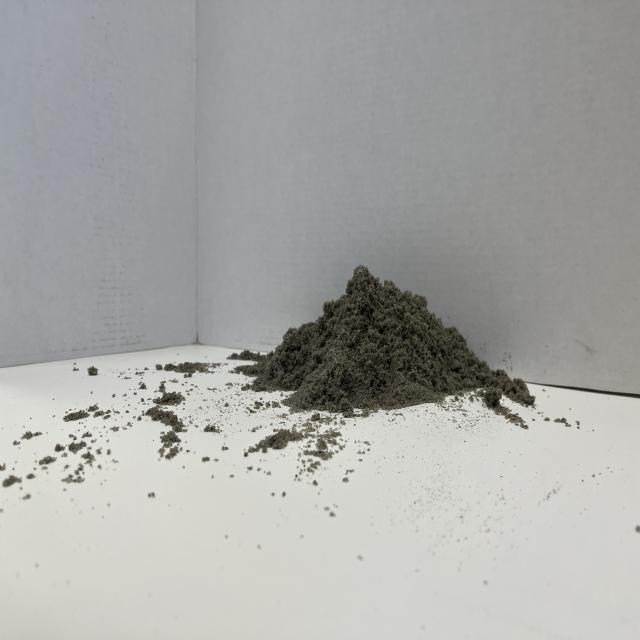sand: (261, 252, 493, 438)
